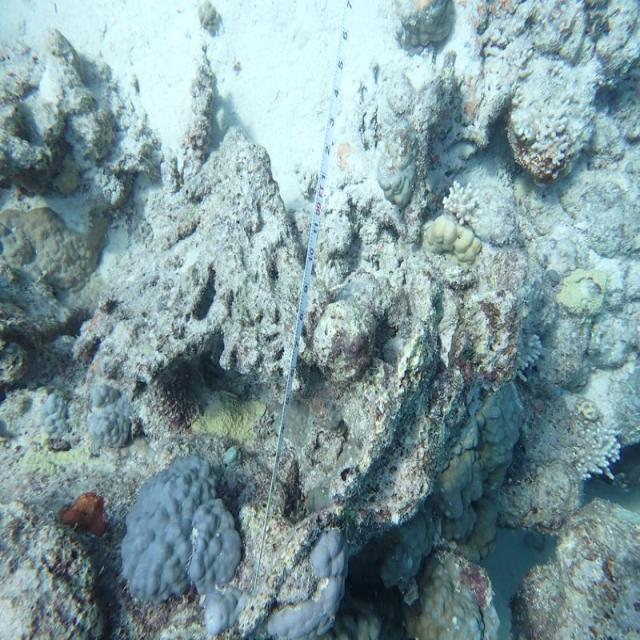Healthy Coral: (126, 457, 250, 611)
